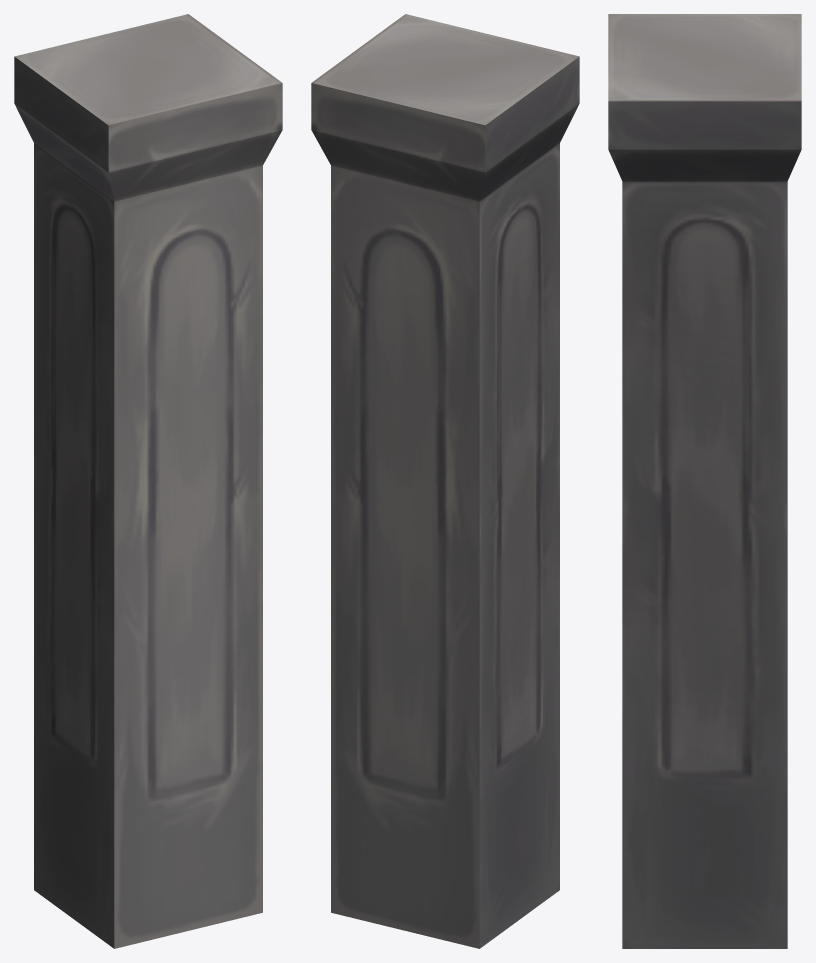
The model's file is langan01.fbx.
3 renders of one model, left to right at view 1: azimuth 30°, elevation 25°; view 2: azimuth 150°, elevation 25°; view 3: azimuth 270°, elevation 25°, orthographic. The views are drawn at different scales.
Parts seen in each view (by area): view 1: thuzizhong; view 2: thuzizhong; view 3: thuzizhong.
Boxes of the visible parts, <box> form: thuzizhong: <box>14,14,282,948</box>; thuzizhong: <box>311,14,579,948</box>; thuzizhong: <box>608,14,801,948</box>.
Size of the model in its own units: 9.83 by 44.87 by 9.21.
Materials: 1 (1 with a texture image).
